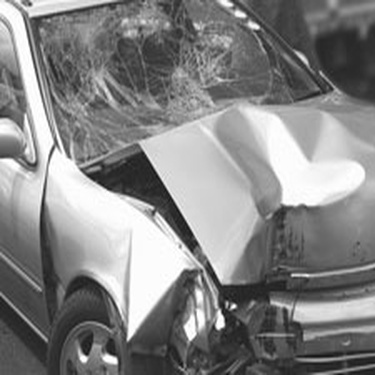car: (11, 1, 371, 367)
